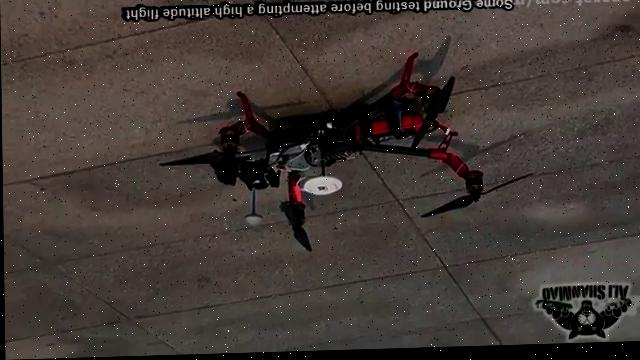drone: (155, 50, 539, 260)
